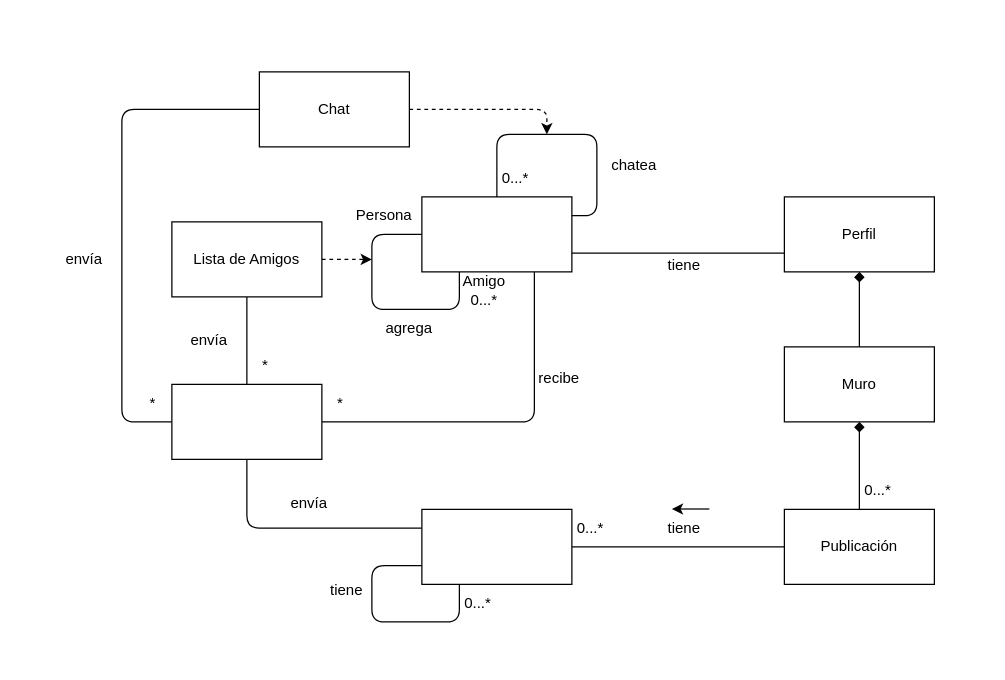
The diagram is 1005 pixels wide and 680 high, and some of its shapes have lost their labels. Each missing label, with the centre of its shape:
Comentario: (496,546)
Estudiante: (496,234)
Notificación: (246,421)
